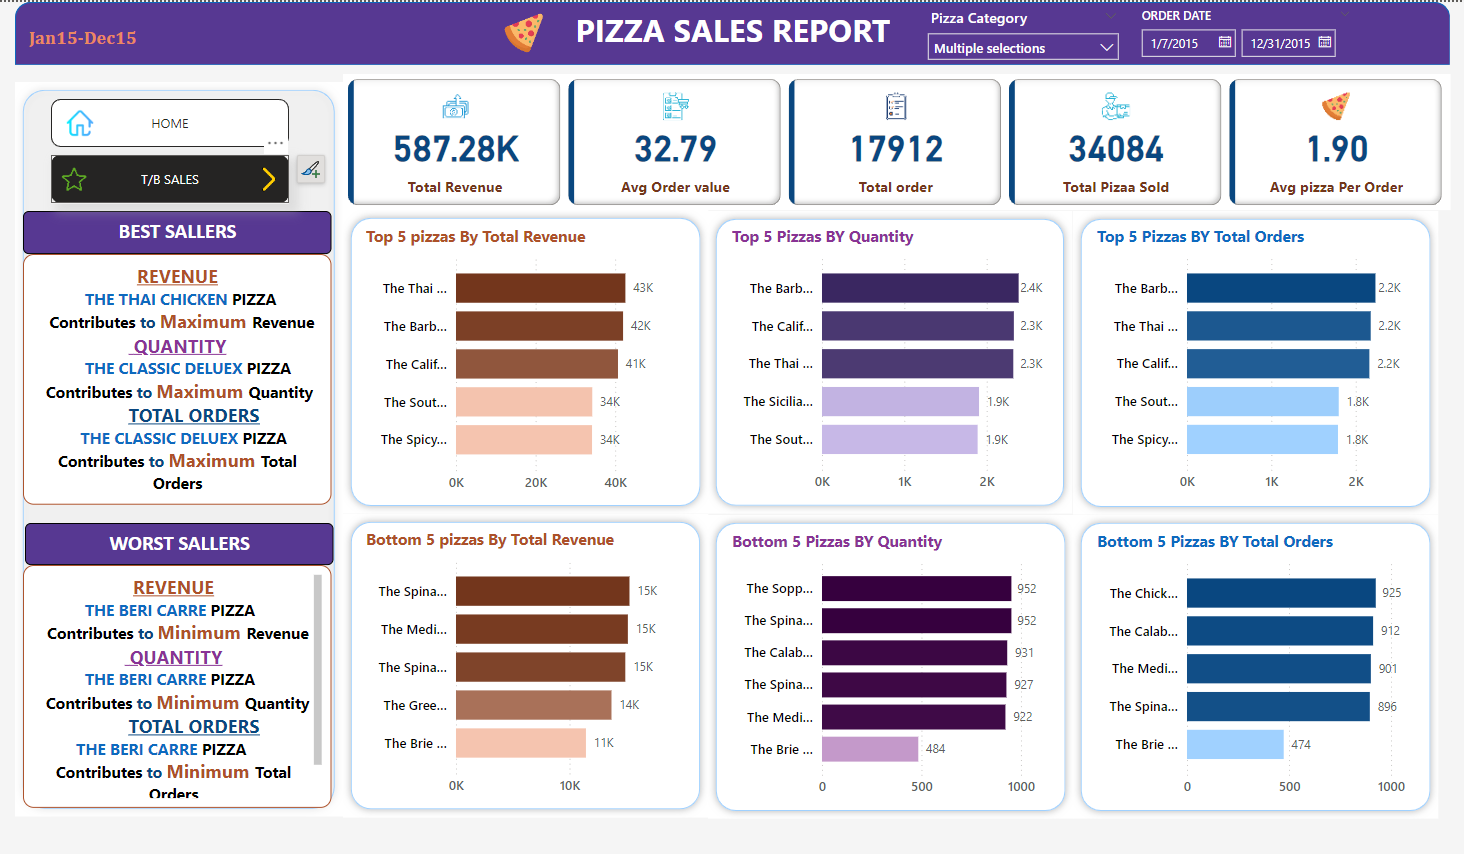

This screenshot's page, from the dashboard's own definition file:
{"tool":"powerbi","page":{"name":"T/B SALES","canvas":[1500,870],"ordinal":1},"visuals":[{"type":"cardVisual","fields":{"Data":["pizza_sales.Total Revenue","pizza_sales.Avg Order value","pizza_sales.Total order","pizza_sales.Total Pizaa Sold","pizza_sales.Avg pizza Per Order"]},"box":[351.2,73.8,1131,139.3],"z":0},{"type":"shape","box":[16.7,0,1465.5,64.3],"z":1000},{"type":"textbox","box":[559.5,6,379.8,51.2],"z":2000},{"type":"image","box":[500,6,70.2,51.2],"z":3000},{"type":"shape","box":[16.7,82.1,334.5,750],"z":4000},{"type":"textbox","box":[25,213.1,315.5,44],"z":5000},{"type":"textbox","box":[25,257.1,315.5,256],"z":6000},{"type":"textbox","box":[26.2,532.1,315.5,42.9],"z":7000},{"type":"textbox","box":[25,575,315.5,247.6],"z":8000},{"type":"slicer","fields":{"Values":["pizza_sales.pizza_category"]},"box":[938.1,0,215.5,64.3],"z":9000},{"type":"slicer","fields":{"Values":["pizza_sales.order_date"]},"box":[1153.6,0,238.1,64.3],"z":10000},{"type":"pageNavigator","box":[53.1,99.2,243.3,49.6],"z":11000},{"type":"pageNavigator","box":[53.1,155.9,243.3,49.6],"z":12000},{"type":"image","box":[59.1,105.1,47.2,36.6],"z":13000},{"type":"image","box":[255.1,163,41.3,35.4],"z":14000},{"type":"image","box":[59.1,163,35.4,35.4],"z":15000},{"type":"textbox","box":[26,18.9,144.1,37.8],"z":16000},{"type":"shape","box":[351.2,522.6,372.6,309.5],"z":17000},{"type":"shape","box":[351.2,212.3,373,310.3],"z":18000},{"type":"shape","box":[724.1,524,373,310.3],"z":19000},{"type":"shape","box":[724.1,213.7,371.6,309],"z":20000},{"type":"shape","box":[1097.1,213.7,373,310.3],"z":21000},{"type":"shape","box":[1097.1,524,373,310.3],"z":22000},{"type":"clusteredBarChart","title":"Top 5 pizzas By Total Revenue","fields":{"Category":["pizza_sales.pizza_name"],"Y":["pizza_sales.Total Revenue"]},"box":[369.6,227.7,334.9,280.8],"z":23000},{"type":"clusteredBarChart","title":"Bottom 5 pizzas By Total Revenue","fields":{"Category":["pizza_sales.pizza_name"],"Y":["pizza_sales.Total Revenue"]},"box":[369.7,537.4,335.4,281.1],"z":24000},{"type":"clusteredBarChart","title":"Top 5 Pizzas BY Quantity","fields":{"Category":["pizza_sales.pizza_name"],"Y":["pizza_sales.Total Pizaa Sold"]},"box":[743.2,227.3,334.8,280.4],"z":25000},{"type":"clusteredBarChart","title":"Bottom 5 Pizzas BY Quantity","fields":{"Category":["pizza_sales.pizza_name"],"Y":["pizza_sales.Total Pizaa Sold"]},"box":[743.2,539,334.8,280.4],"z":26000},{"type":"clusteredBarChart","title":"Top 5 Pizzas BY Total Orders","fields":{"Category":["pizza_sales.pizza_name"],"Y":["pizza_sales.Total order"]},"box":[1116.2,227.3,334.8,280.4],"z":27000},{"type":"clusteredBarChart","title":"Bottom 5 Pizzas BY Total Orders","fields":{"Category":["pizza_sales.pizza_name"],"Y":["pizza_sales.Total order"]},"box":[1116.2,539,334.8,280.4],"z":28000}]}

Visuals, with their boxes in screenshot pixels (x1, y1, x2, y2), scaled from the page's 1500x870 canvas onto the 1464x854 screenshot:
cardVisual - pizza_sales.Total Revenue x pizza_sales.Avg Order value: Rect(343, 72, 1447, 209)
shape: Rect(16, 0, 1447, 63)
textbox: Rect(546, 6, 917, 56)
image: Rect(488, 6, 557, 56)
shape: Rect(16, 81, 343, 817)
textbox: Rect(24, 209, 332, 252)
textbox: Rect(24, 252, 332, 504)
textbox: Rect(26, 522, 333, 564)
textbox: Rect(24, 564, 332, 807)
slicer - pizza_sales.pizza_category: Rect(916, 0, 1126, 63)
slicer - pizza_sales.order_date: Rect(1126, 0, 1358, 63)
pageNavigator: Rect(52, 97, 289, 146)
pageNavigator: Rect(52, 153, 289, 202)
image: Rect(58, 103, 104, 139)
image: Rect(249, 160, 289, 195)
image: Rect(58, 160, 92, 195)
textbox: Rect(25, 19, 166, 56)
shape: Rect(343, 513, 706, 817)
shape: Rect(343, 208, 707, 513)
shape: Rect(707, 514, 1071, 819)
shape: Rect(707, 210, 1069, 513)
shape: Rect(1071, 210, 1435, 514)
shape: Rect(1071, 514, 1435, 819)
"Top 5 pizzas By Total Revenue" clusteredBarChart: Rect(361, 224, 688, 499)
"Bottom 5 pizzas By Total Revenue" clusteredBarChart: Rect(361, 528, 688, 803)
"Top 5 Pizzas BY Quantity" clusteredBarChart: Rect(725, 223, 1052, 498)
"Bottom 5 Pizzas BY Quantity" clusteredBarChart: Rect(725, 529, 1052, 804)
"Top 5 Pizzas BY Total Orders" clusteredBarChart: Rect(1089, 223, 1416, 498)
"Bottom 5 Pizzas BY Total Orders" clusteredBarChart: Rect(1089, 529, 1416, 804)
